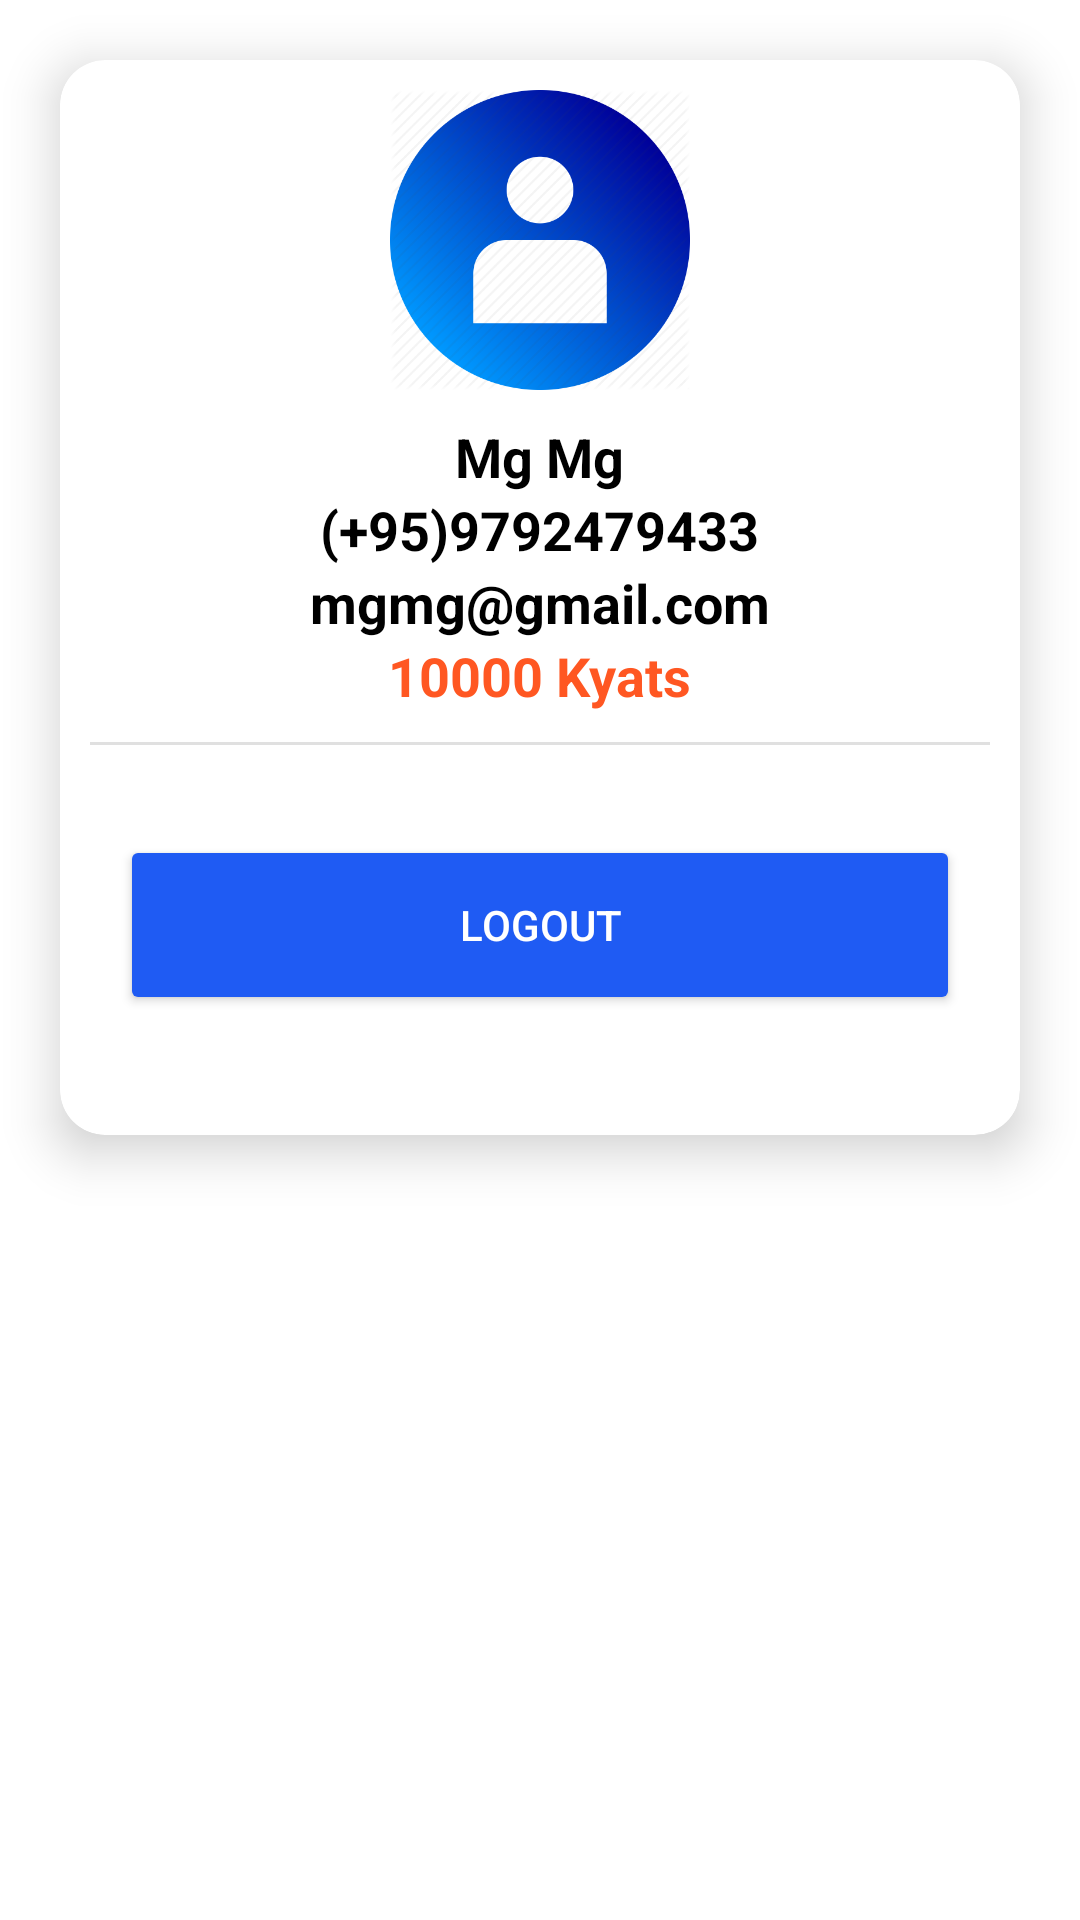

Icons on this 1080*1920 Android screen, each with the point to tap as [x,y]:
profile: [540,240]
